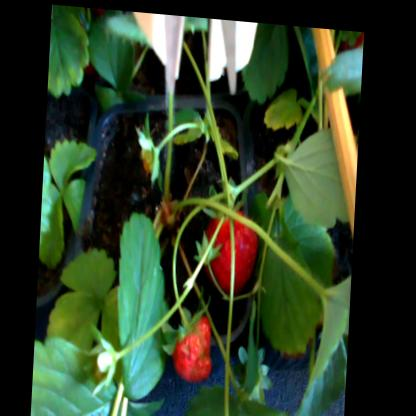ripe: (204, 189, 272, 292), (175, 307, 227, 383)
